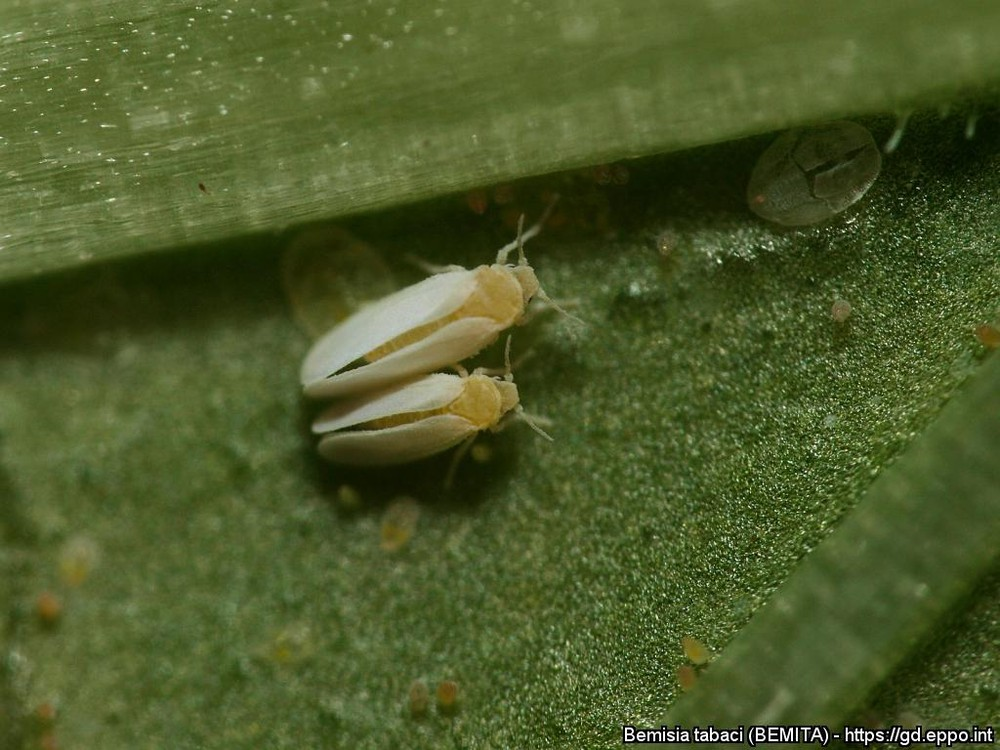Mosca Blanca: (275, 217, 585, 381), (298, 368, 558, 486)
